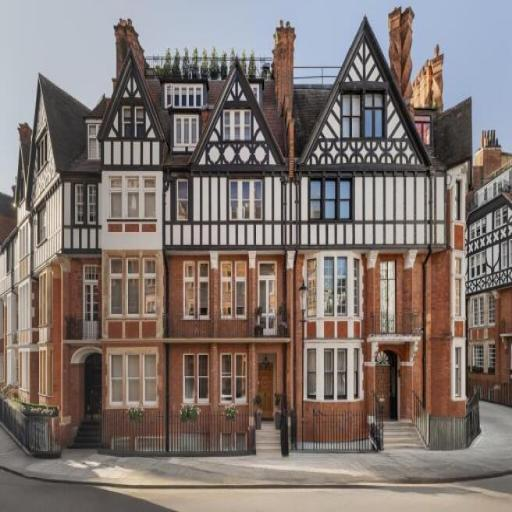door: (257, 358, 280, 427)
